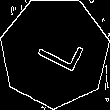L_NW: (26, 27, 83, 78)
